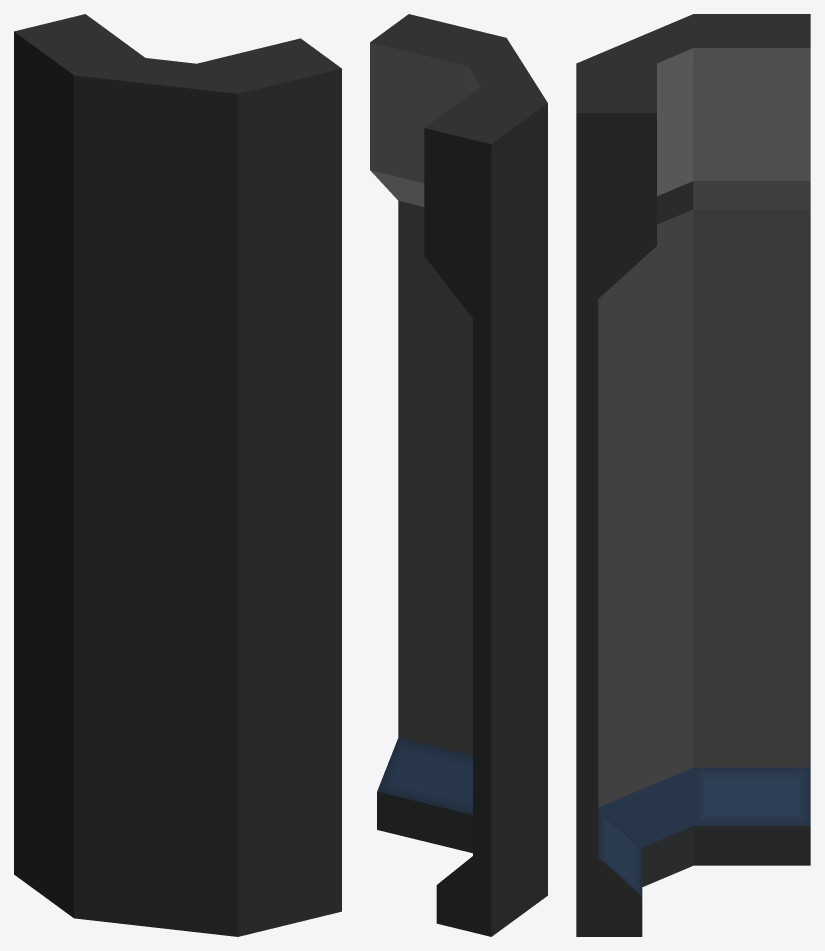
Rendered from CalShipCargoCornerIn1.gltf.
3 views of the same model, side by side, from view 1: azimuth 30°, elevation 25°; view 2: azimuth 150°, elevation 25°; view 3: azimuth 270°, elevation 25° (orthographic). The views are drawn at different scales.
Visible parts, largest first — view 1: mesh; view 2: mesh; view 3: mesh.
Boxes of the visible parts, left/top/right/bottom form: mesh: left=14, top=14, right=341, bottom=936; mesh: left=370, top=14, right=547, bottom=936; mesh: left=576, top=14, right=810, bottom=936.
Bounding box in the file's own units: 1 × 3.88 × 1.
1 material, 1 textured.
